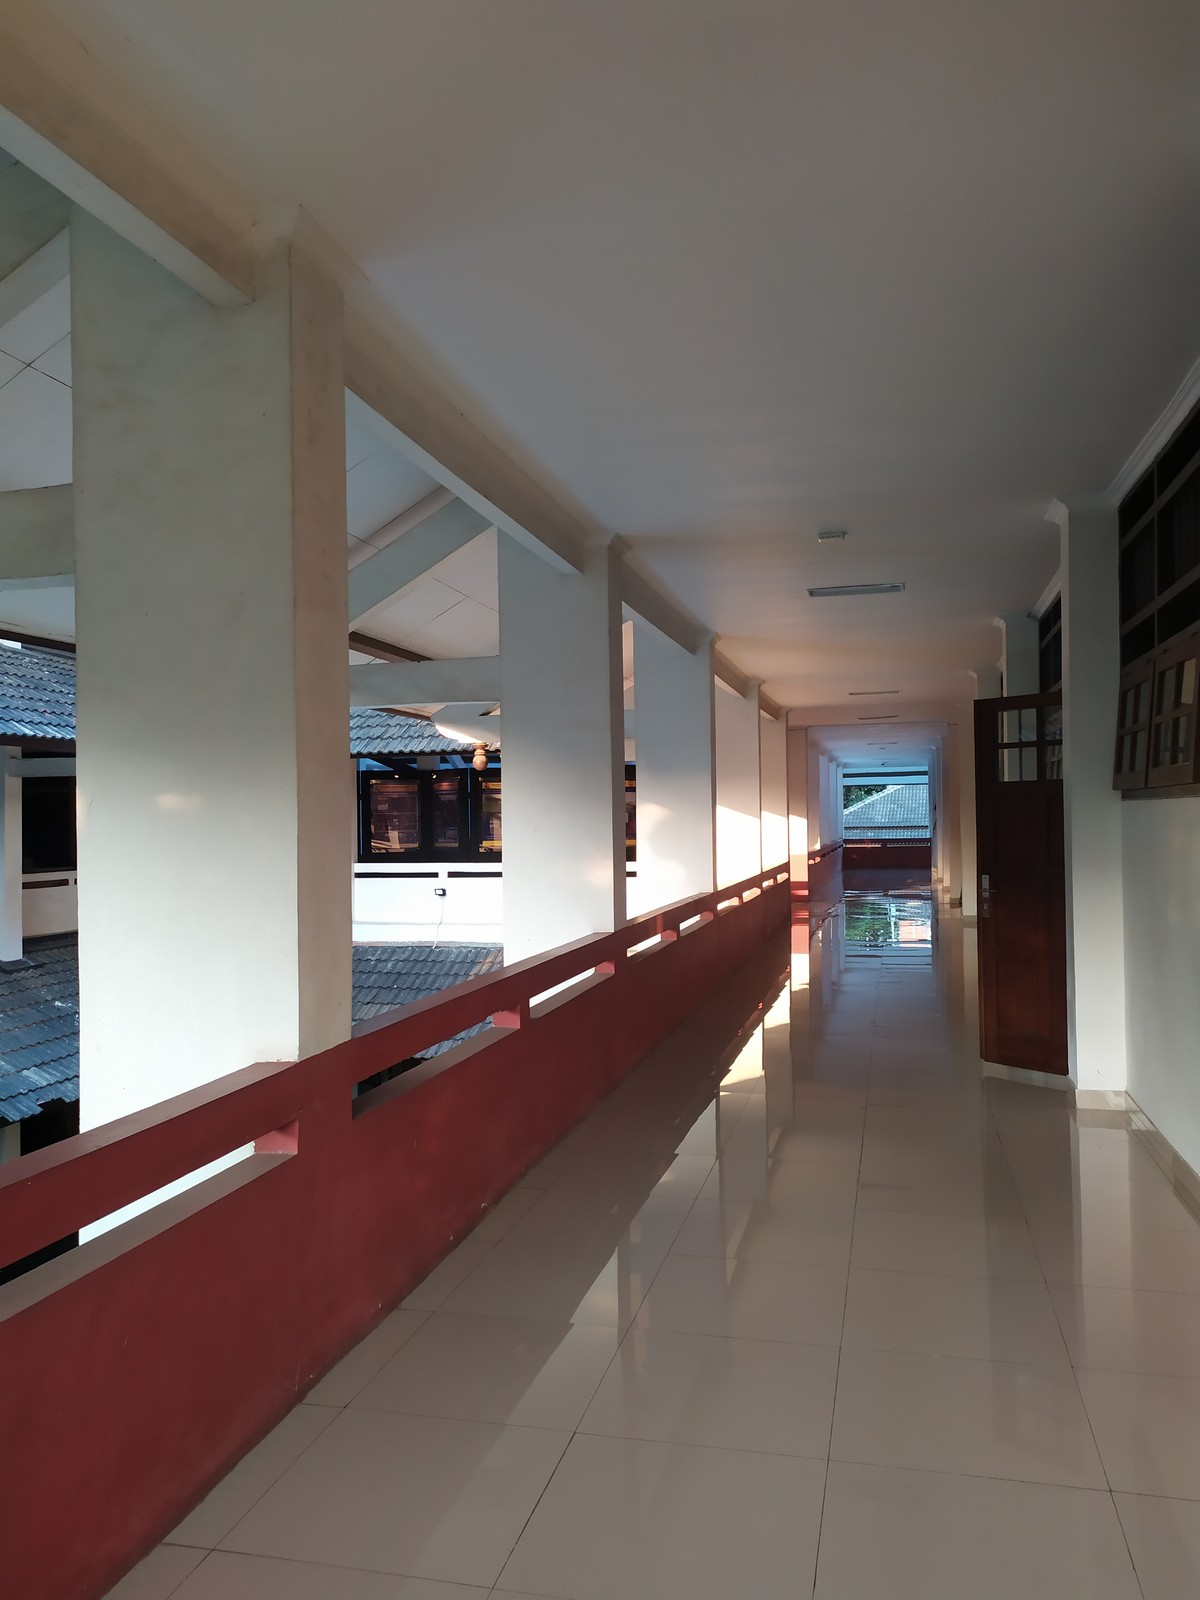concrete beam: (332, 648, 511, 717)
concrete column: (61, 181, 363, 1136), (492, 525, 634, 944), (1054, 496, 1142, 1112), (629, 601, 724, 896)
